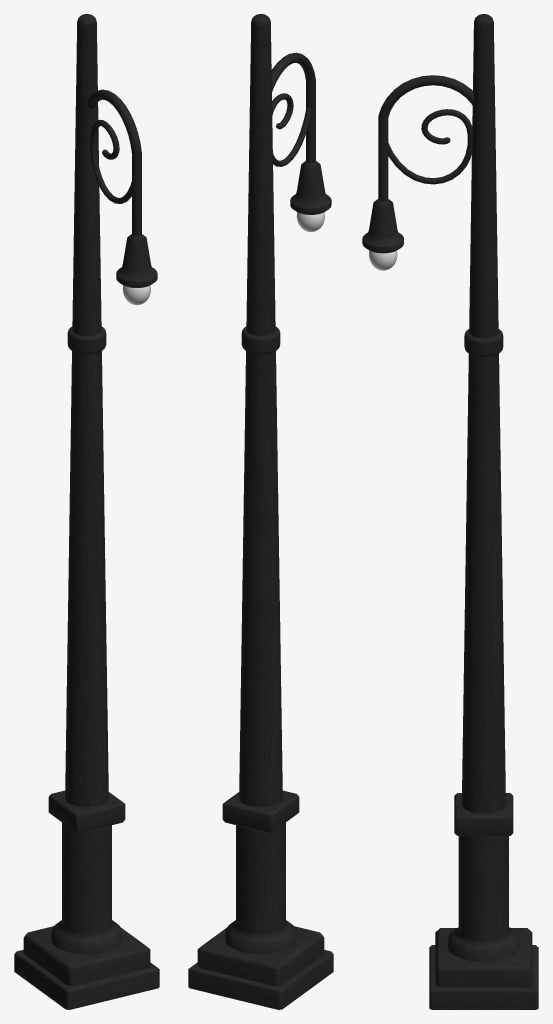
Rendered from Poste de luz.fbx.
The picture shows the model from 3 angles, left to right: view 1: azimuth 30°, elevation 25°; view 2: azimuth 150°, elevation 25°; view 3: azimuth 270°, elevation 25°; orthographic projection.
Parts seen in each view (by area): view 1: Street Lamp MK1; view 2: Street Lamp MK1; view 3: Street Lamp MK1.
Boxes of the visible parts, bbox=[...] form: Street Lamp MK1: bbox=[14, 14, 159, 1009]; Street Lamp MK1: bbox=[188, 14, 333, 1009]; Street Lamp MK1: bbox=[362, 14, 538, 1009].
Bounding box in the file's own units: 30.62 × 300 × 49.33.
2 materials, 1 textured.
